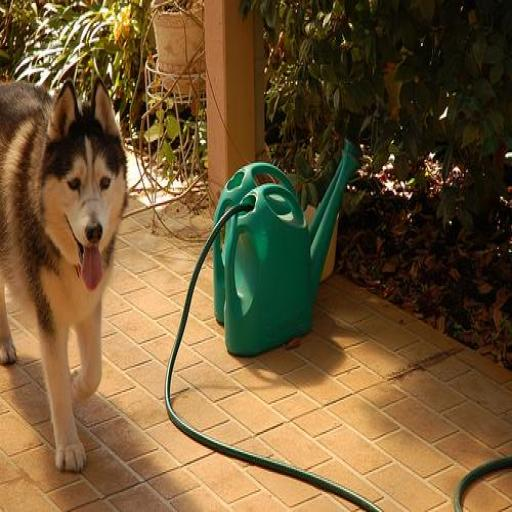dog_face: (48, 82, 118, 281)
